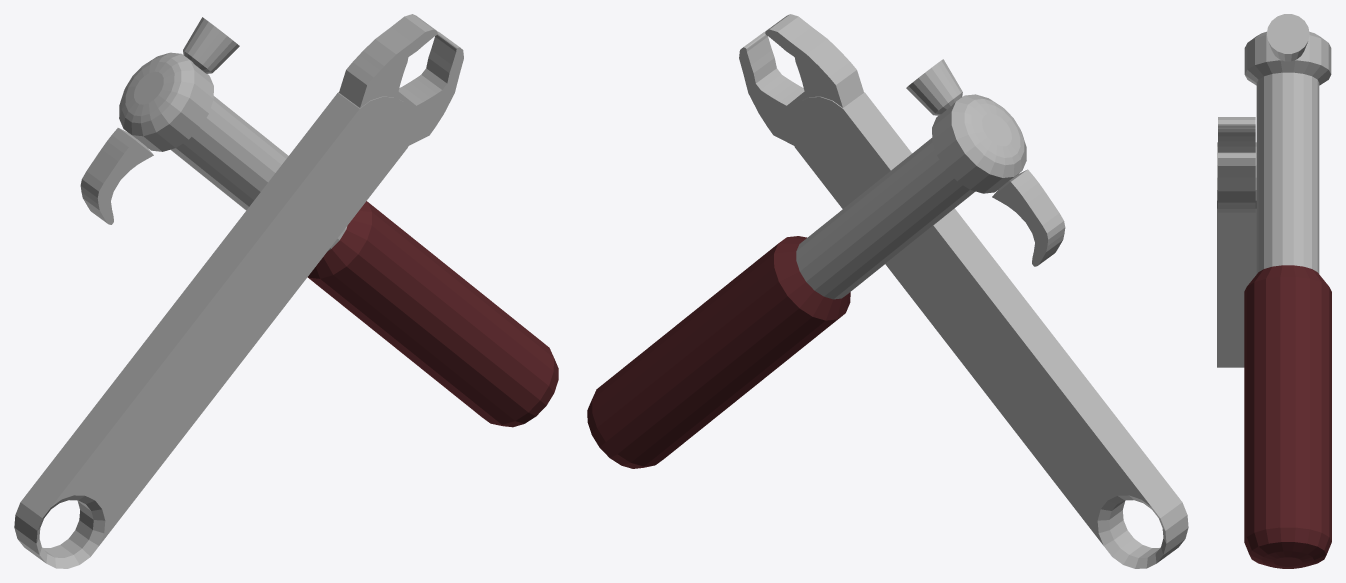
The model's file is ferramenta_conserto.fbx.
3 views of the same model, side by side, from view 1: azimuth 30°, elevation 25°; view 2: azimuth 150°, elevation 25°; view 3: azimuth 270°, elevation 25° (orthographic). The views are drawn at different scales.
Visible parts, largest first — view 1: ferramenta_conserto; view 2: ferramenta_conserto; view 3: ferramenta_conserto.
Boxes of the visible parts, left/top/right/bottom form: ferramenta_conserto: left=14, top=14, right=558, bottom=568; ferramenta_conserto: left=587, top=14, right=1188, bottom=568; ferramenta_conserto: left=1217, top=14, right=1331, bottom=568.
Size of the model in its own units: 111 by 91.47 by 22.26.
